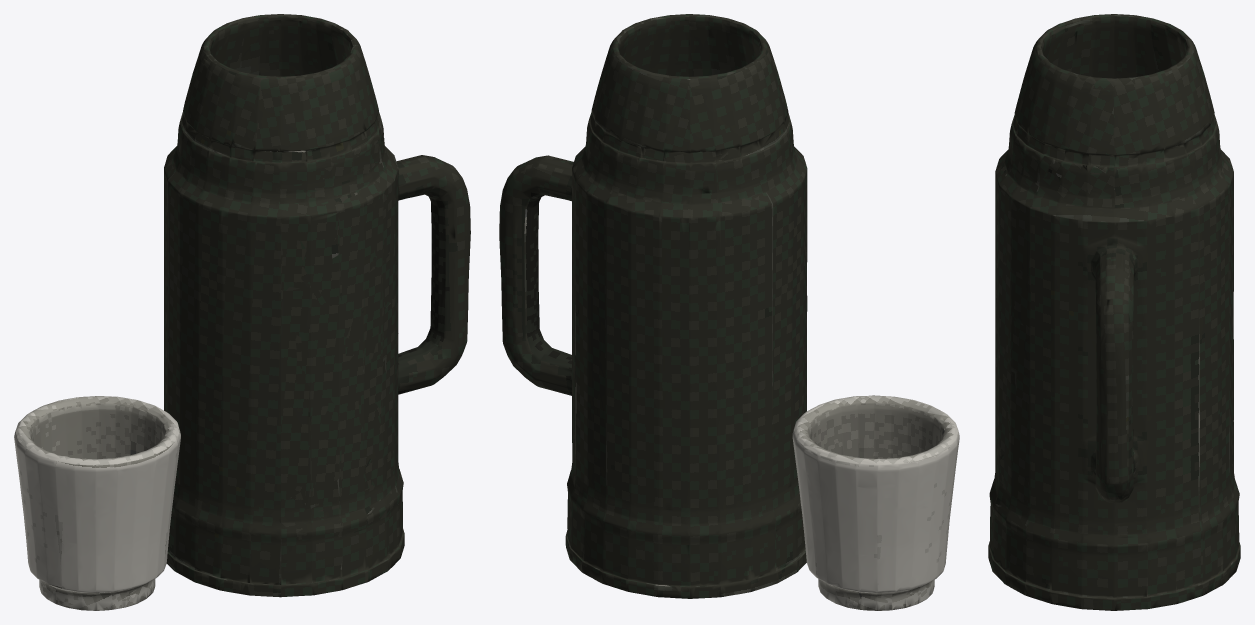
File: bottle_glass_psx.glb
The picture shows the model from 3 angles, left to right: view 1: azimuth 30°, elevation 25°; view 2: azimuth 150°, elevation 25°; view 3: azimuth 270°, elevation 25°; orthographic projection. The views are drawn at different scales.
Visible parts, largest first — view 1: node_0; view 2: node_0; view 3: node_0.
Boxes of the visible parts, box(x1,y1,x2,y2) form: node_0: box(14, 14, 470, 610); node_0: box(499, 14, 959, 610); node_0: box(988, 14, 1240, 610).
Size of the model in its own units: 0.8646 by 0.9295 by 0.4158.
1 material, 1 textured.
